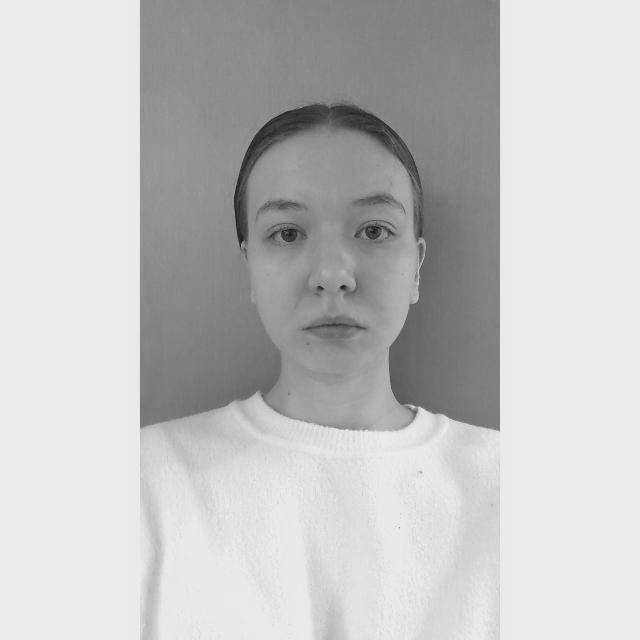real: (237, 135, 421, 369)
